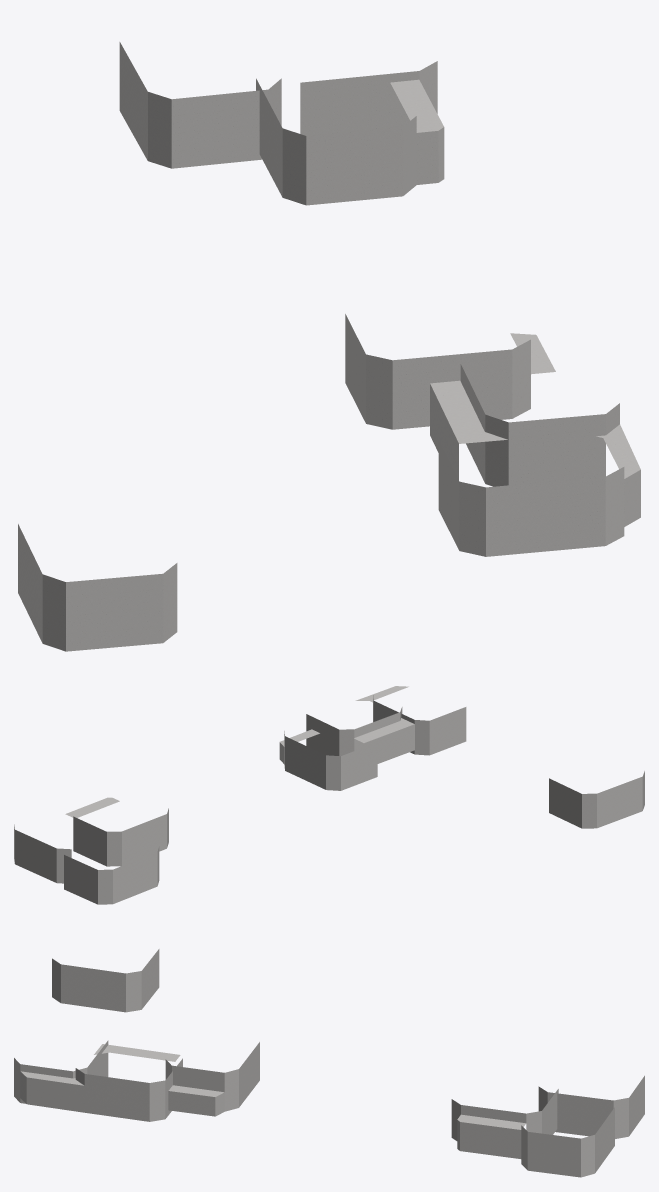
File: kd_connection_world-inner_surface_17_1.glb
3 views of the same model, one above another, from view 1: azimuth 30°, elevation 25°; view 2: azimuth 150°, elevation 25°; view 3: azimuth 270°, elevation 25° (orthographic). The views are drawn at different scales.
Parts seen in each view (by area): view 1: kd_connection_world-inner_surface_17_1; view 2: kd_connection_world-inner_surface_17_1; view 3: kd_connection_world-inner_surface_17_1.
Boxes of the visible parts, bbox=[...] form: kd_connection_world-inner_surface_17_1: bbox=[18, 42, 640, 651]; kd_connection_world-inner_surface_17_1: bbox=[14, 686, 644, 904]; kd_connection_world-inner_surface_17_1: bbox=[14, 949, 644, 1177].
Bounding box in the file's own units: 615 × 79.03 × 735.
Materials: 1 (1 with a texture image).
